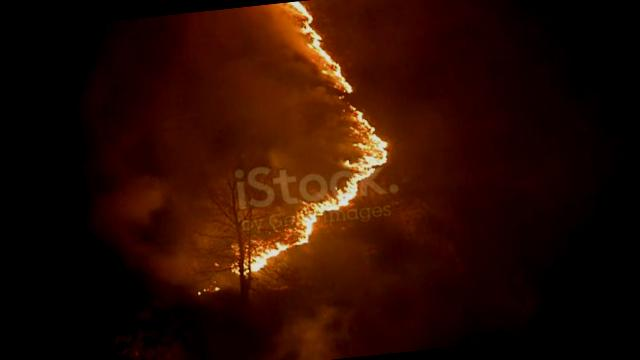fire: (206, 189, 347, 277), (276, 0, 354, 101), (332, 103, 396, 207)
